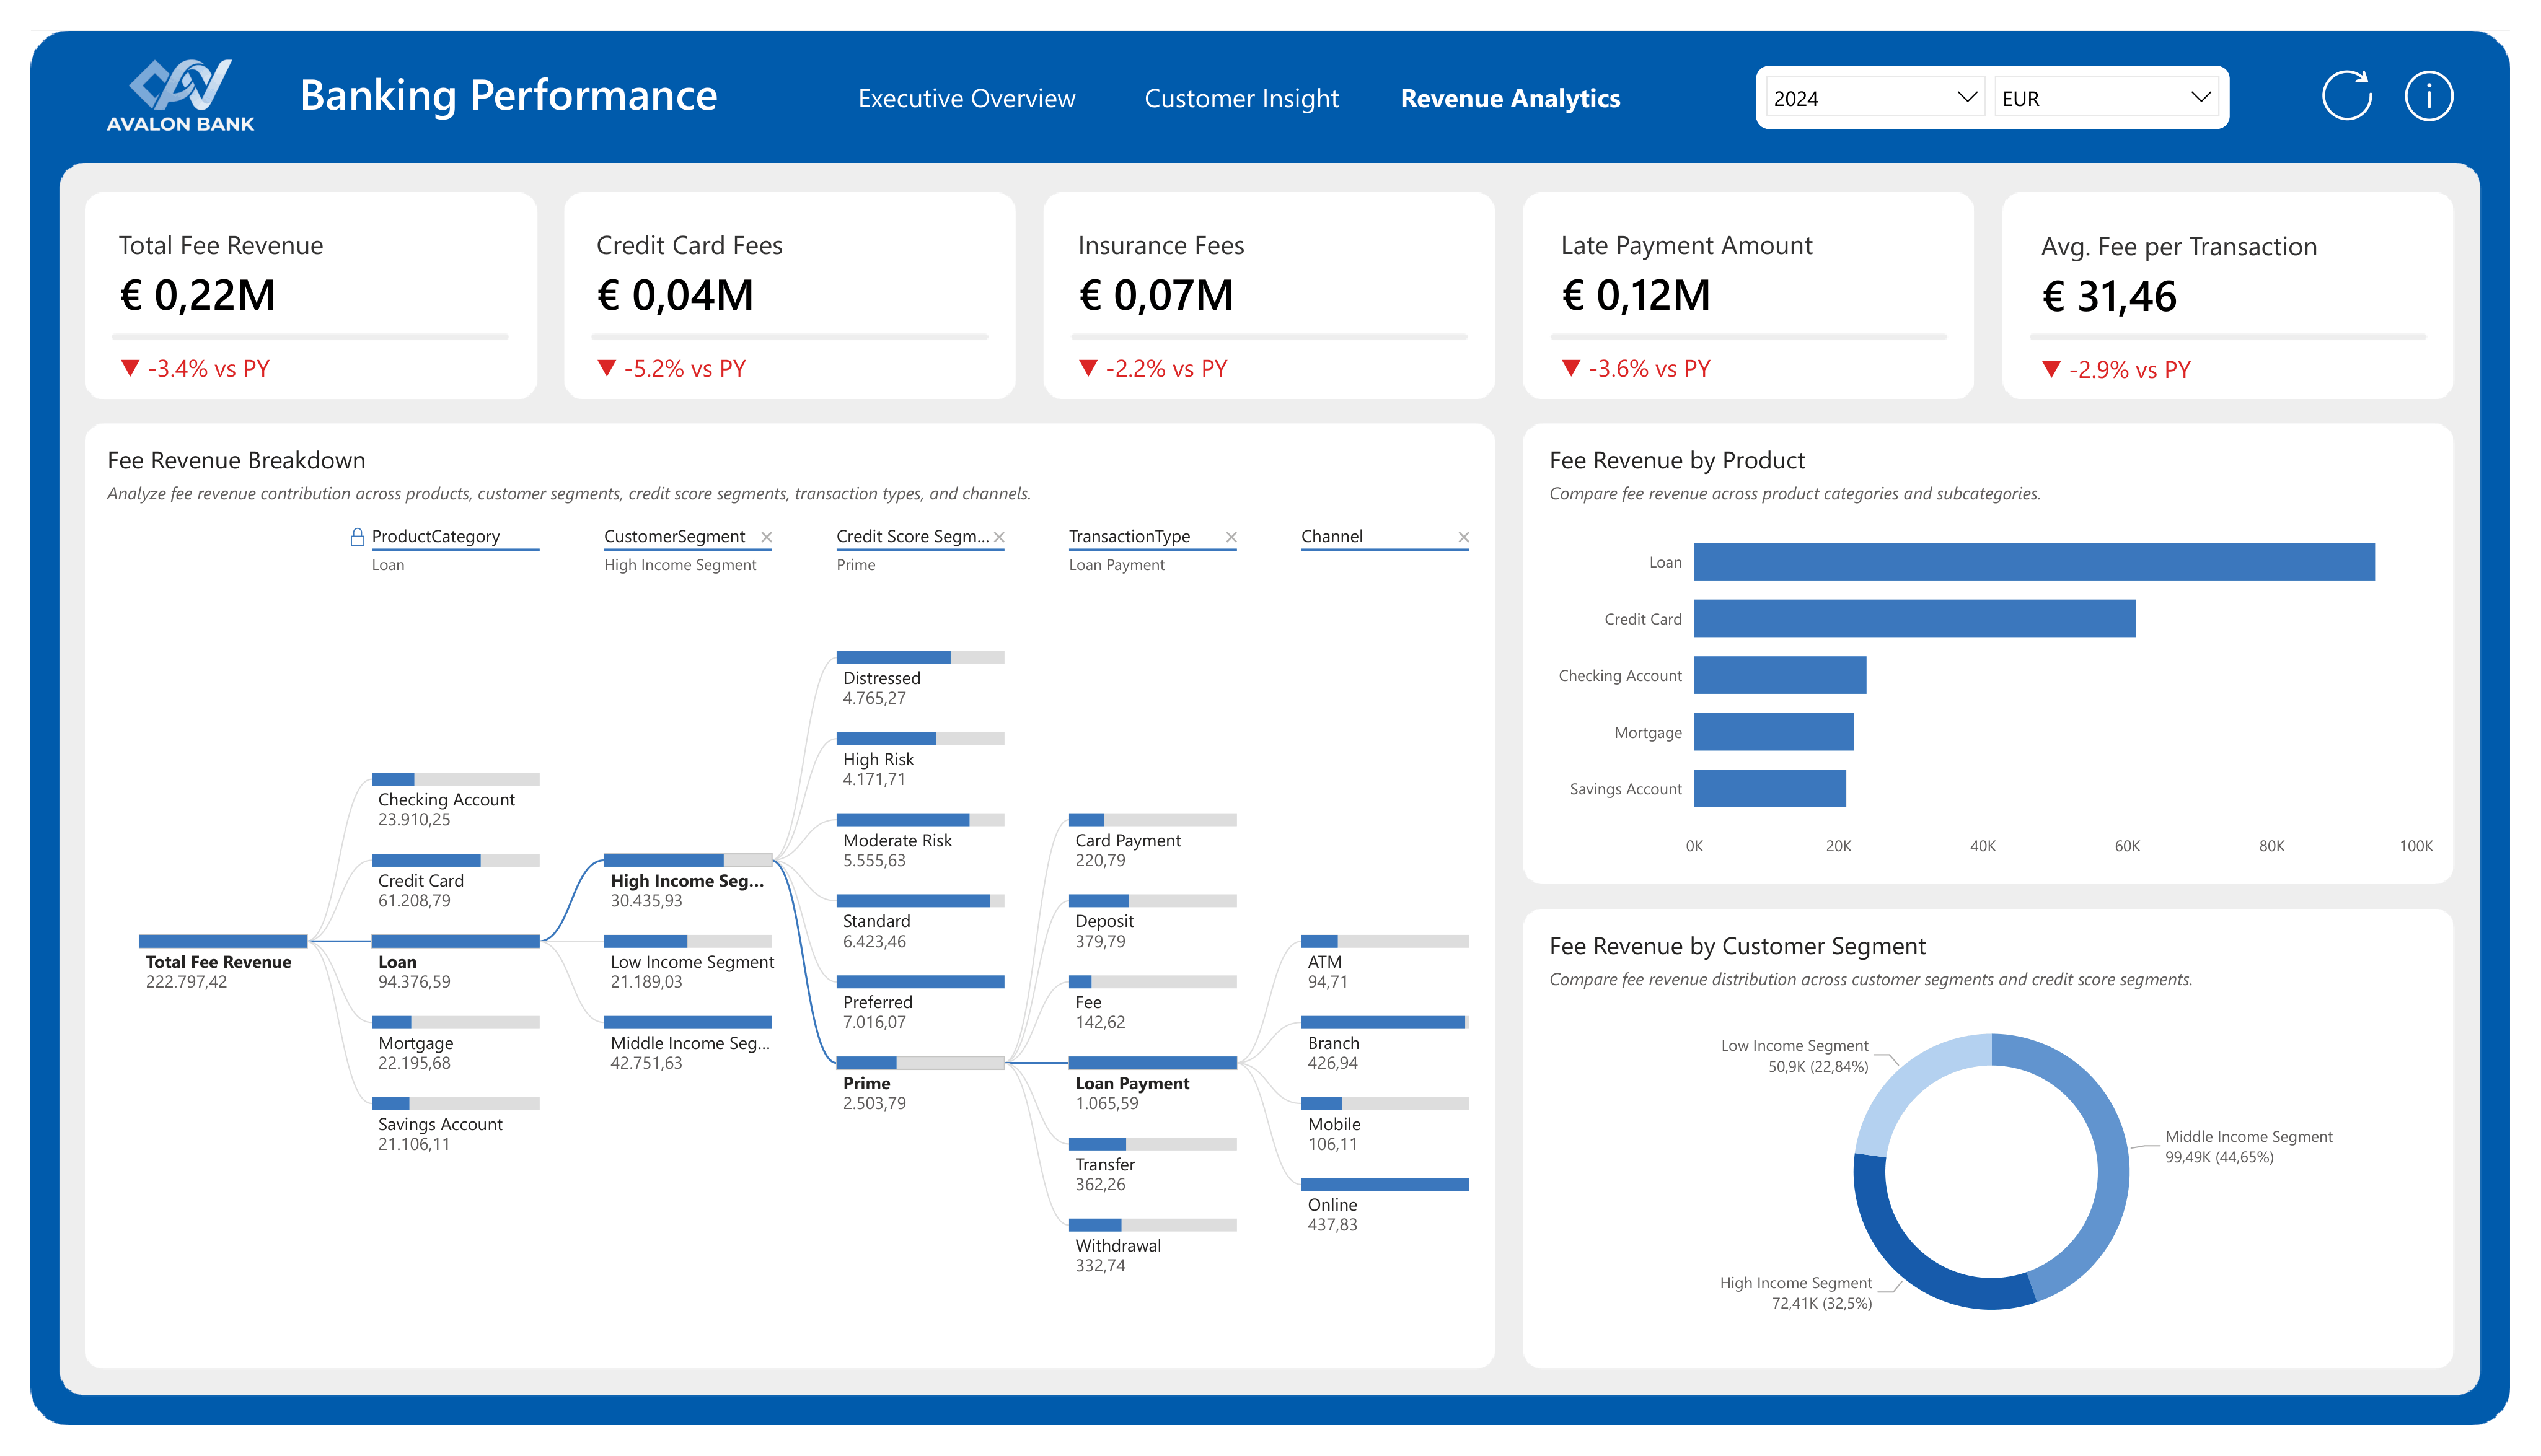

The page's visual inventory and layout, read from the dashboard file:
{"tool":"powerbi","page":{"name":"Revenue Analytics","canvas":[1920,1080],"ordinal":2},"visuals":[{"type":"shape","box":[1335.5,27.1,367.4,48.9],"z":0},{"type":"cardVisual","fields":{"Data":[".Measures.Total Fee Revenue Display"]},"box":[39,123.4,354.9,162.3],"z":1000},{"type":"cardVisual","fields":{"Data":[".Measures.Credit Card Fees Display"]},"box":[409,123.1,354.7,162.9],"z":2000},{"type":"cardVisual","fields":{"Data":[".Measures.Insurance Fees Display"]},"box":[781.8,123.1,354.7,162.9],"z":3000},{"type":"cardVisual","fields":{"Data":[".Measures.Late Payment Amount Display"]},"box":[1156.4,123.1,349.3,162.9],"z":4000},{"type":"cardVisual","fields":{"Data":[".Measures.Avg Fee per Transaction Display"]},"box":[1528,124,350,162],"z":5000},{"type":"cardVisual","fields":{"Data":[".Measures.Total Fee Revenue YoY Label"]},"box":[39.8,217.2,354.7,85.1],"z":6000},{"type":"cardVisual","fields":{"Data":[".Measures.Credit Card Fees YoY Label"]},"box":[409,217.2,354.7,85.1],"z":7000},{"type":"cardVisual","fields":{"Data":[".Measures.Insurance Fees YoY Label"]},"box":[781.8,217.2,354.7,85.1],"z":8000},{"type":"cardVisual","fields":{"Data":[".Measures.Late Payment Amount YoY Label"]},"box":[1156.4,217.2,349.3,85.1],"z":9000},{"type":"cardVisual","fields":{"Data":[".Measures.Avg Fee per Transaction YoY Label"]},"box":[1528,218,350,84],"z":10000},{"type":"slicer","fields":{"Values":["Dim_Currency.Currency"]},"box":[1511.1,25.3,193.6,48.9],"z":11000},{"type":"slicer","fields":{"Values":["Dim_Calendar.Year"]},"box":[1333.7,25.3,190,47.1],"z":12000},{"type":"textbox","title":"Banking Performance","box":[202.7,25.3,394.5,50.7],"z":13000},{"type":"shape","box":[630.7,27.1,188.2,47.1],"z":14000},{"type":"shape","box":[843.8,27.1,188.2,47.1],"z":15000},{"type":"shape","box":[1051.9,27.1,188.2,47.1],"z":16000},{"type":"clusteredBarChart","title":"Fee Revenue by Product","fields":{"Category":["Fact_Transactions.ProductCategory","Fact_Transactions.ProductSubcategory"],"Y":[".Measures.Total Fee Revenue"]},"box":[1170.9,318.5,694.9,331.2],"z":17000},{"type":"donutChart","title":"Fee Revenue by Customer Segment","fields":{"Category":["Fact_Transactions.CustomerSegment","Fact_Transactions.Credit Score Segment"],"Y":[".Measures.Total Fee Revenue"]},"box":[1170.9,694.9,694.9,331.2],"z":18000},{"type":"decompositionTreeVisual","title":"Fee Revenue Breakdown","fields":{"Analyze":[".Measures.Total Fee Revenue"],"ExplainBy":["Fact_Transactions.ProductCategory","Fact_Transactions.CustomerSegment","Fact_Transactions.Credit Score Segment","Fact_Transactions.TransactionType","Fact_Transactions.Channel"]},"box":[54.3,318.5,1067.7,707.6],"z":19000},{"type":"image","box":[27.1,0,177.3,106.8],"z":20000},{"type":"image","box":[1836.8,18.1,41.6,65.1],"z":21000},{"type":"image","box":[1774,16,40,68],"z":22000}]}

Visuals, with their boxes on the page's 1920x1080 design canvas (x1, y1, x2, y2). These are canvas units, not pixel positions in the 2541x1456 screenshot, which may show the page scaled, cropped or inside an application window:
shape: <box>1336,27,1703,76</box>
cardVisual - .Measures.Total Fee Revenue Display: <box>39,123,394,286</box>
cardVisual - .Measures.Credit Card Fees Display: <box>409,123,764,286</box>
cardVisual - .Measures.Insurance Fees Display: <box>782,123,1136,286</box>
cardVisual - .Measures.Late Payment Amount Display: <box>1156,123,1506,286</box>
cardVisual - .Measures.Avg Fee per Transaction Display: <box>1528,124,1878,286</box>
cardVisual - .Measures.Total Fee Revenue YoY Label: <box>40,217,394,302</box>
cardVisual - .Measures.Credit Card Fees YoY Label: <box>409,217,764,302</box>
cardVisual - .Measures.Insurance Fees YoY Label: <box>782,217,1136,302</box>
cardVisual - .Measures.Late Payment Amount YoY Label: <box>1156,217,1506,302</box>
cardVisual - .Measures.Avg Fee per Transaction YoY Label: <box>1528,218,1878,302</box>
slicer - Dim_Currency.Currency: <box>1511,25,1705,74</box>
slicer - Dim_Calendar.Year: <box>1334,25,1524,72</box>
"Banking Performance" textbox: <box>203,25,597,76</box>
shape: <box>631,27,819,74</box>
shape: <box>844,27,1032,74</box>
shape: <box>1052,27,1240,74</box>
"Fee Revenue by Product" clusteredBarChart: <box>1171,318,1866,650</box>
"Fee Revenue by Customer Segment" donutChart: <box>1171,695,1866,1026</box>
"Fee Revenue Breakdown" decompositionTreeVisual: <box>54,318,1122,1026</box>
image: <box>27,0,204,107</box>
image: <box>1837,18,1878,83</box>
image: <box>1774,16,1814,84</box>
